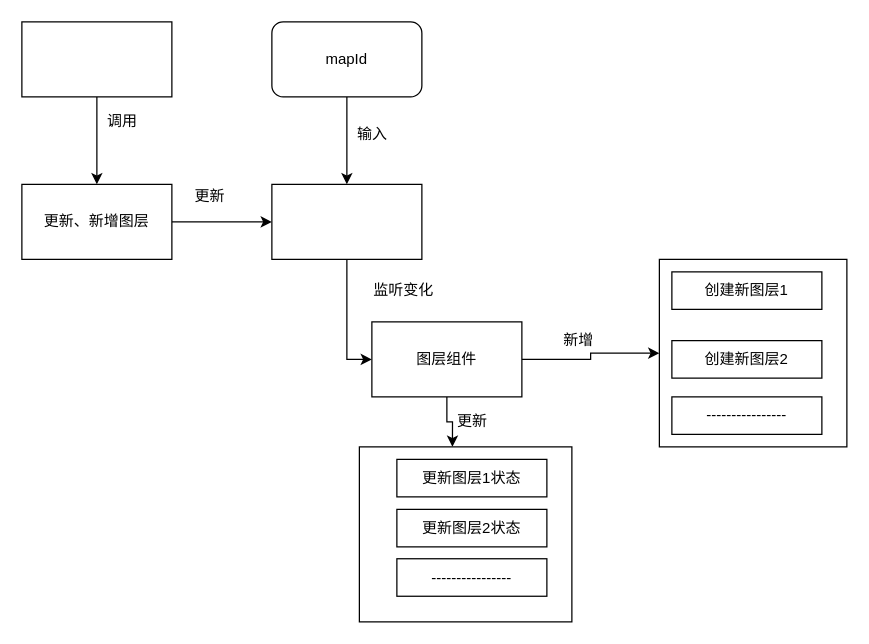
This 869x644 diagram has some shape labels left out. Here are the shapes that lost their labels. From the top down, the box of each, then its label:
(21, 21, 172, 97): 外部组件
(271, 183, 422, 259): vuex状态管理
